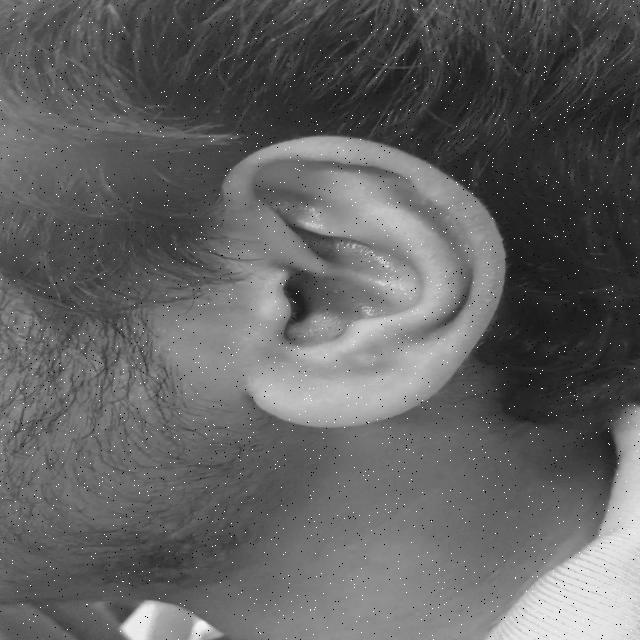ear: (222, 137, 505, 426)
